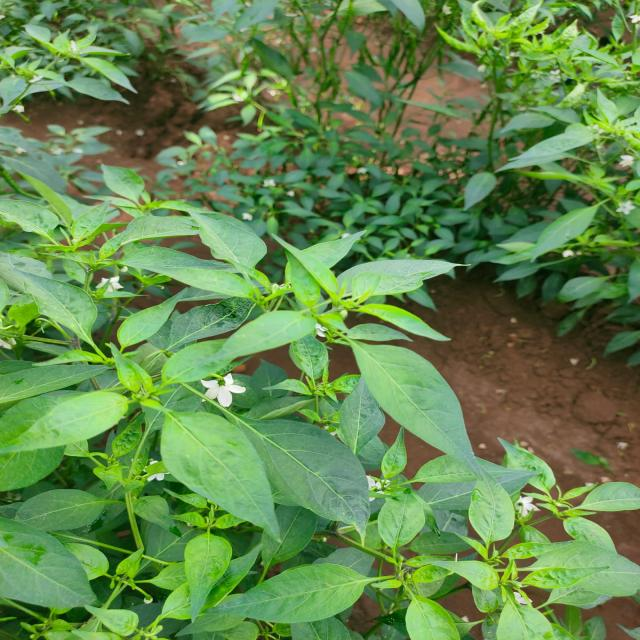Mosaic_virus: (5, 0, 359, 640), (339, 0, 639, 326), (361, 340, 640, 640)
